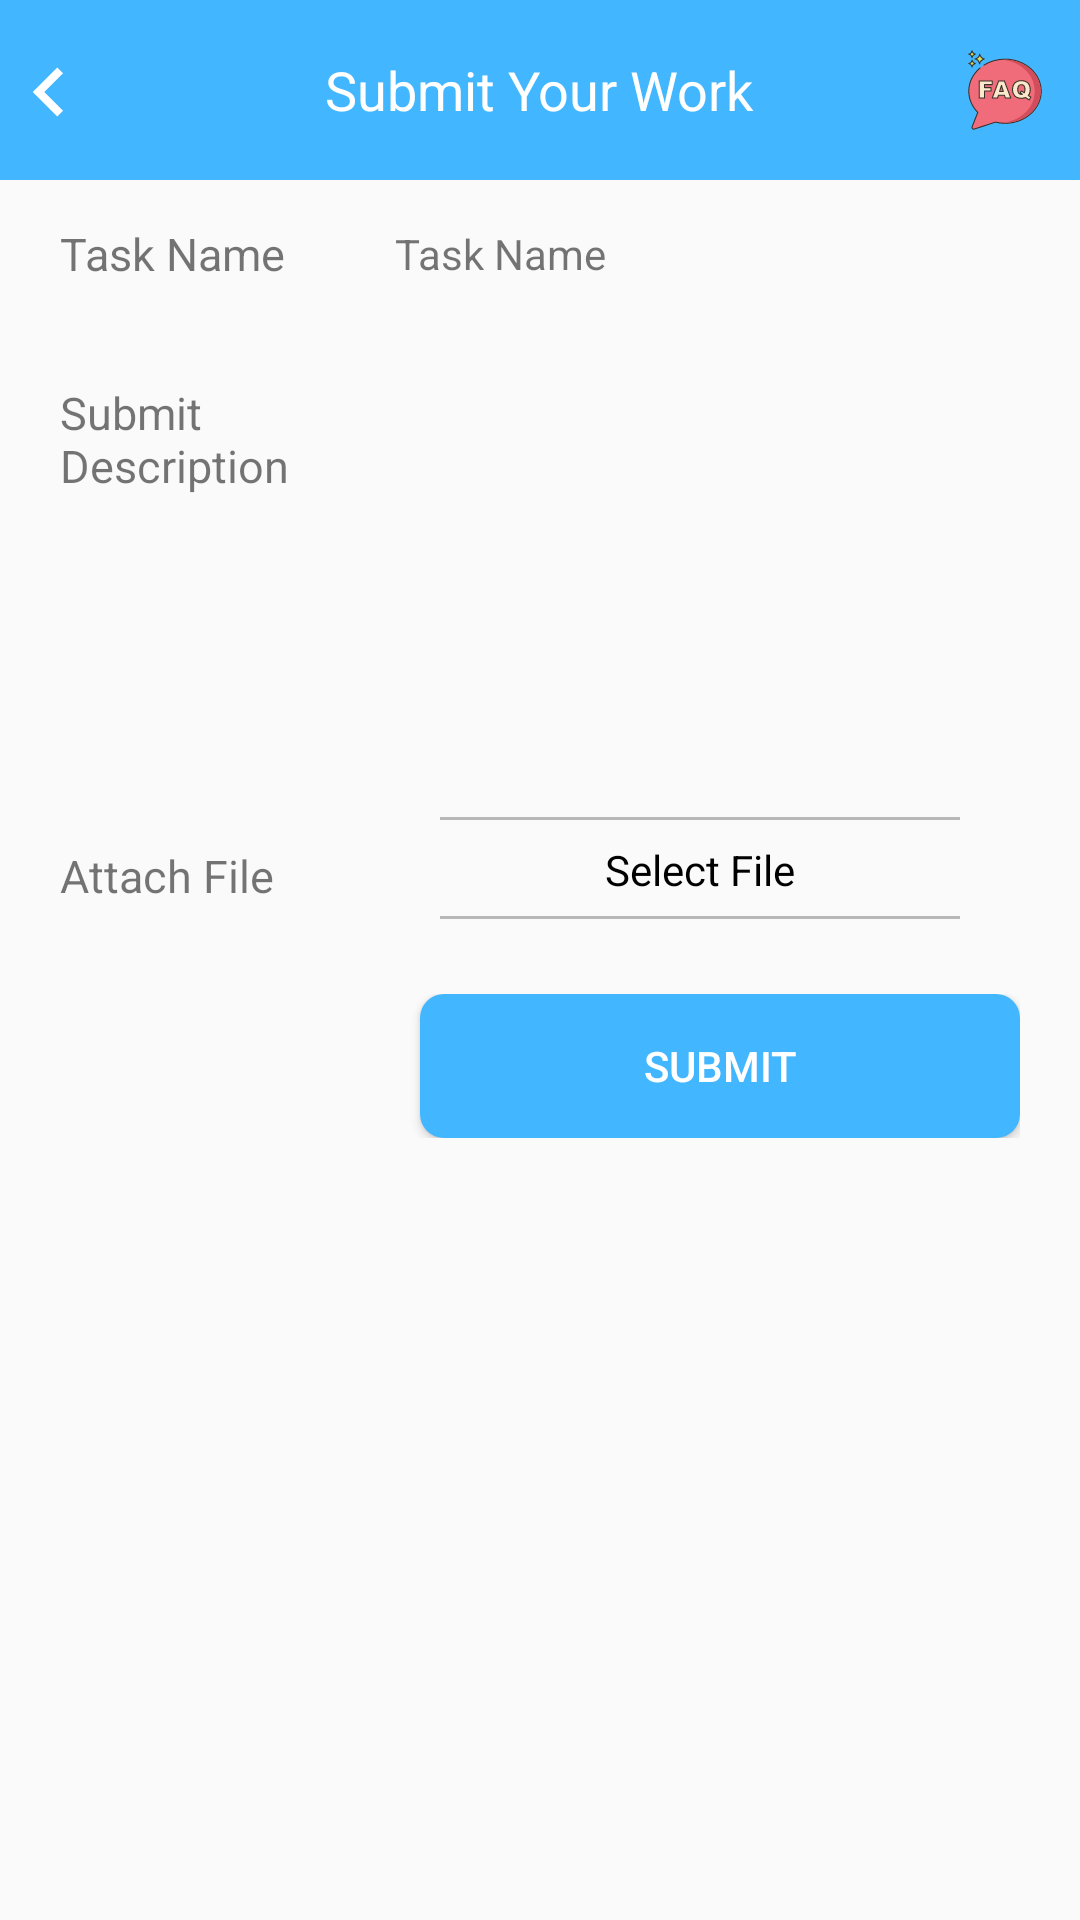

Named icons in this screenshot (1080 × 1920) and their centers, (x=x, y=y):
keyboard arrow left: (x=48, y=92)
